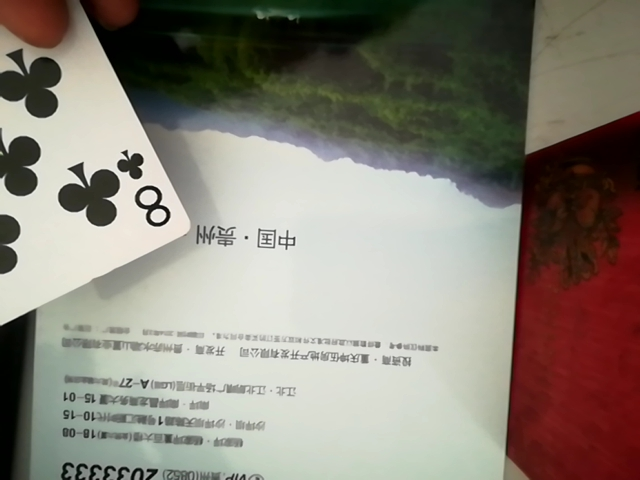mh 8: (0, 0, 189, 383)
